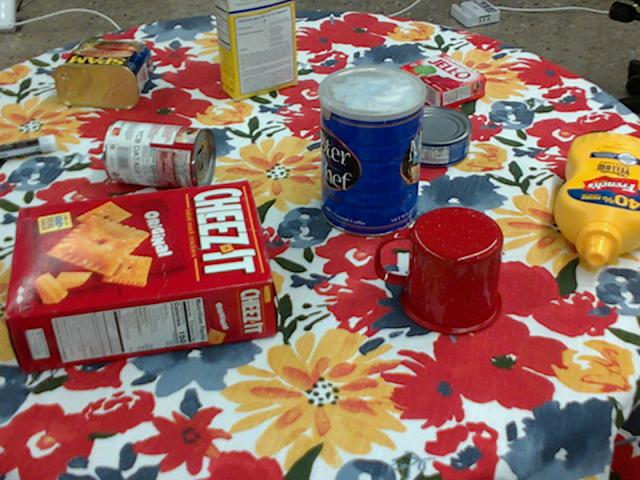cracker_box: (9, 182, 274, 373)
gelatin_box: (397, 55, 484, 112)
large_marker: (0, 134, 57, 159)
master_chef_can: (317, 65, 425, 238)
mug: (375, 206, 503, 335)
mustard_bottle: (553, 131, 639, 265)
potted_meat_can: (54, 39, 153, 108)
sugar_box: (216, 0, 297, 98)
tomato_soup_can: (102, 120, 214, 190)
tuna_fish_can: (396, 106, 472, 167)
